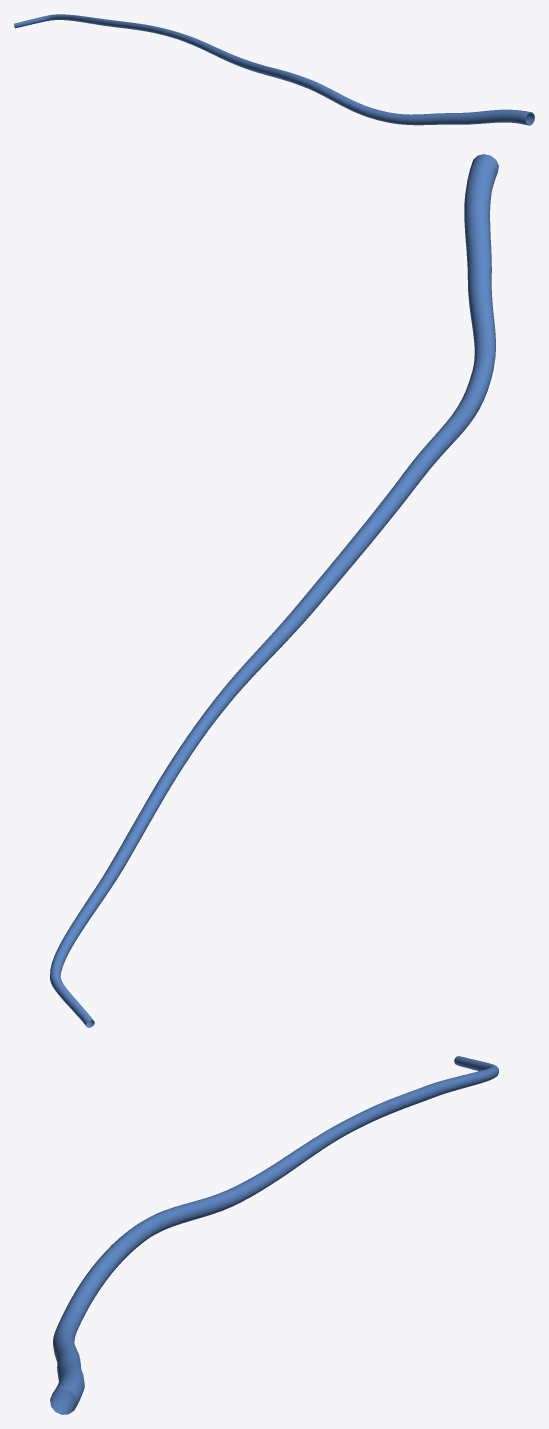
3 renders of one model, top to bottom at view 1: azimuth 30°, elevation 25°; view 2: azimuth 150°, elevation 25°; view 3: azimuth 330°, elevation 25°, orthographic. The views are drawn at different scales.
Parts seen in each view (by area): view 1: 右侧桡静脉; view 2: 右侧桡静脉; view 3: 右侧桡静脉.
Part boxes in pixels (box(x1,y1,x2,y2)): 右侧桡静脉: box(14, 14, 534, 125); 右侧桡静脉: box(50, 154, 498, 1027); 右侧桡静脉: box(50, 1056, 498, 1414).
Bounding box in the file's own units: 0.0819 × 0.0648 × 0.3067.
